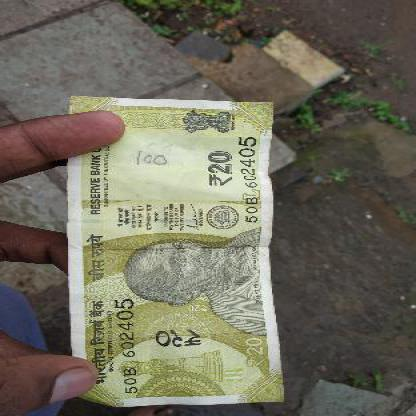New20Front: (68, 98, 276, 400)
